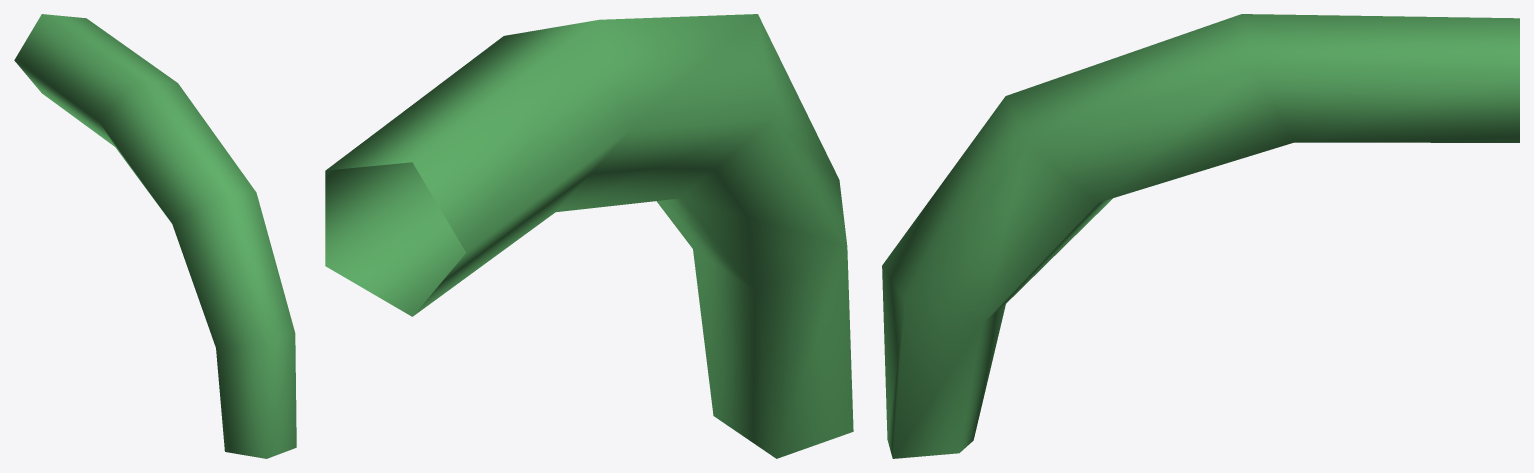
Rendered from SPipeG_1.fbx.
3 renders of one model, left to right at view 1: azimuth 30°, elevation 25°; view 2: azimuth 150°, elevation 25°; view 3: azimuth 270°, elevation 25°, orthographic. The views are drawn at different scales.
Visible parts, largest first — view 1: SPipeG_1; view 2: SPipeG_1; view 3: SPipeG_1.
Boxes of the visible parts, bbox=[...] form: SPipeG_1: bbox=[14, 14, 296, 458]; SPipeG_1: bbox=[325, 14, 853, 458]; SPipeG_1: bbox=[882, 14, 1519, 458].
Size of the model in its own units: 9.87 by 38.25 by 51.96.
